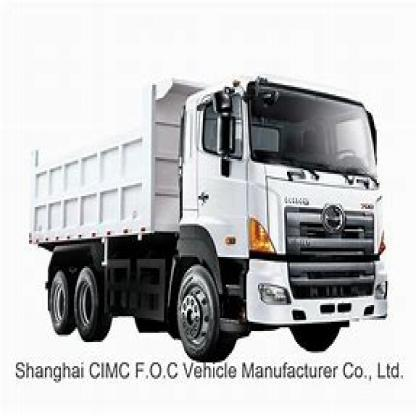dump_truck: (14, 55, 393, 355)
